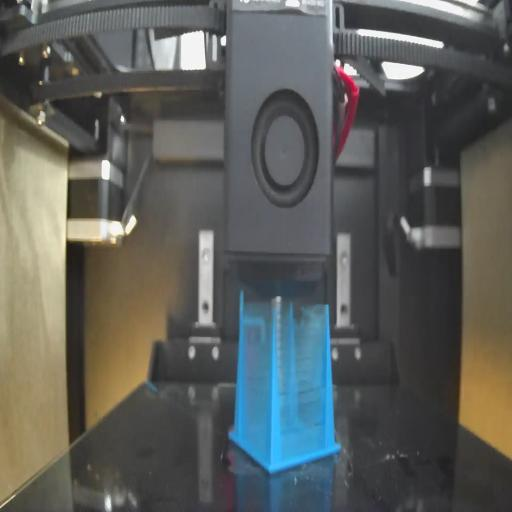stringing: (279, 306, 327, 459), (242, 300, 269, 468)
